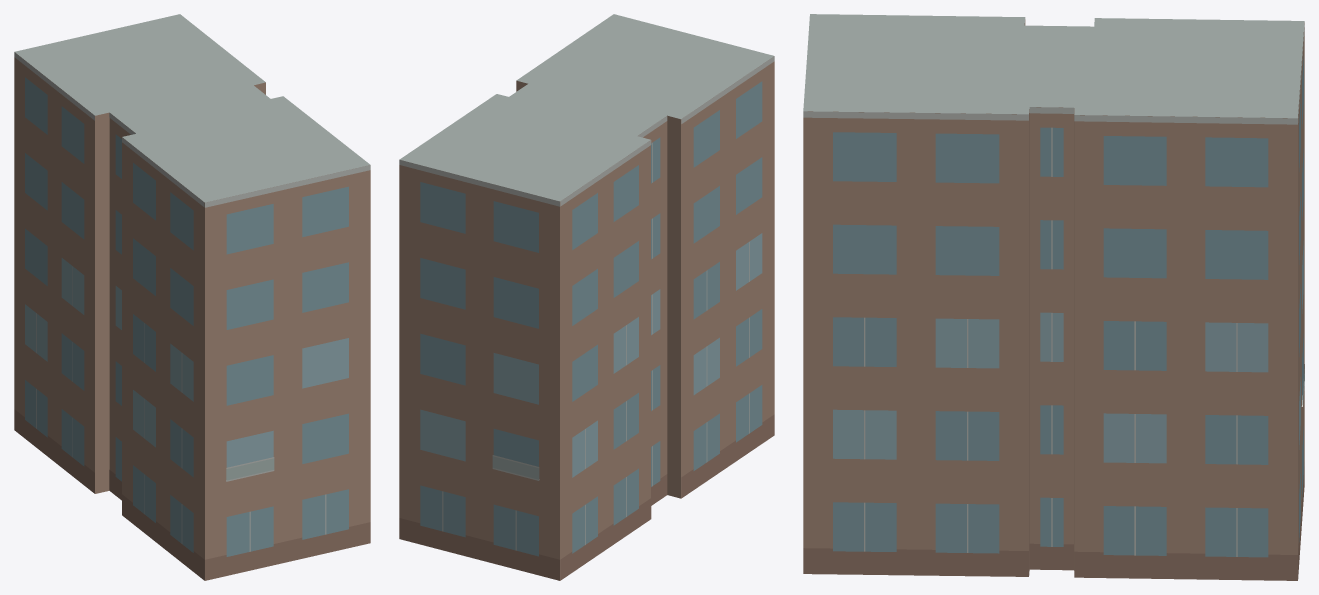
File: survey-upis-32735734.glb
The picture shows the model from 3 angles, left to right: view 1: azimuth 30°, elevation 25°; view 2: azimuth 150°, elevation 25°; view 3: azimuth 270°, elevation 25°; orthographic projection. The views are drawn at different scales.
Parts seen in each view (by area): view 1: survey-upis-32735734.tmp; view 2: survey-upis-32735734.tmp; view 3: survey-upis-32735734.tmp.
Part boxes in pixels (x1,y1,x2,y2): survey-upis-32735734.tmp: [14, 14, 370, 580]; survey-upis-32735734.tmp: [399, 14, 774, 580]; survey-upis-32735734.tmp: [803, 14, 1304, 580].
Bounding box in the file's own units: 8.57 × 17.7 × 17.4.
